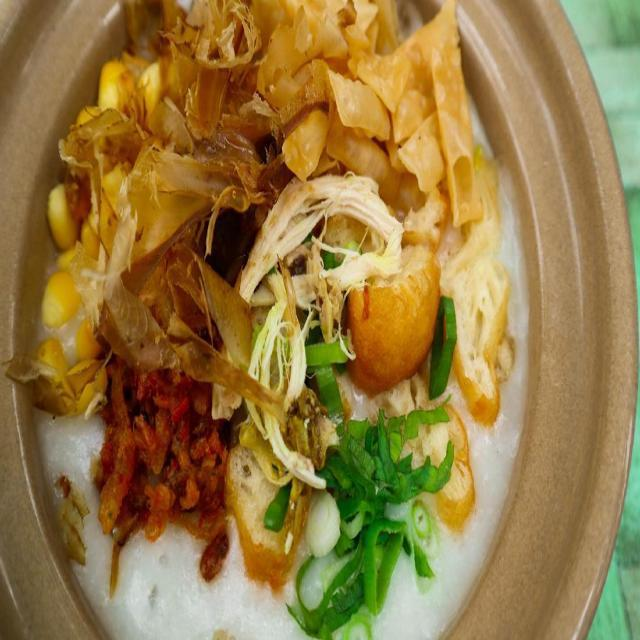bubur ayam: (26, 0, 526, 639)
mangkuk: (1, 2, 618, 630)
